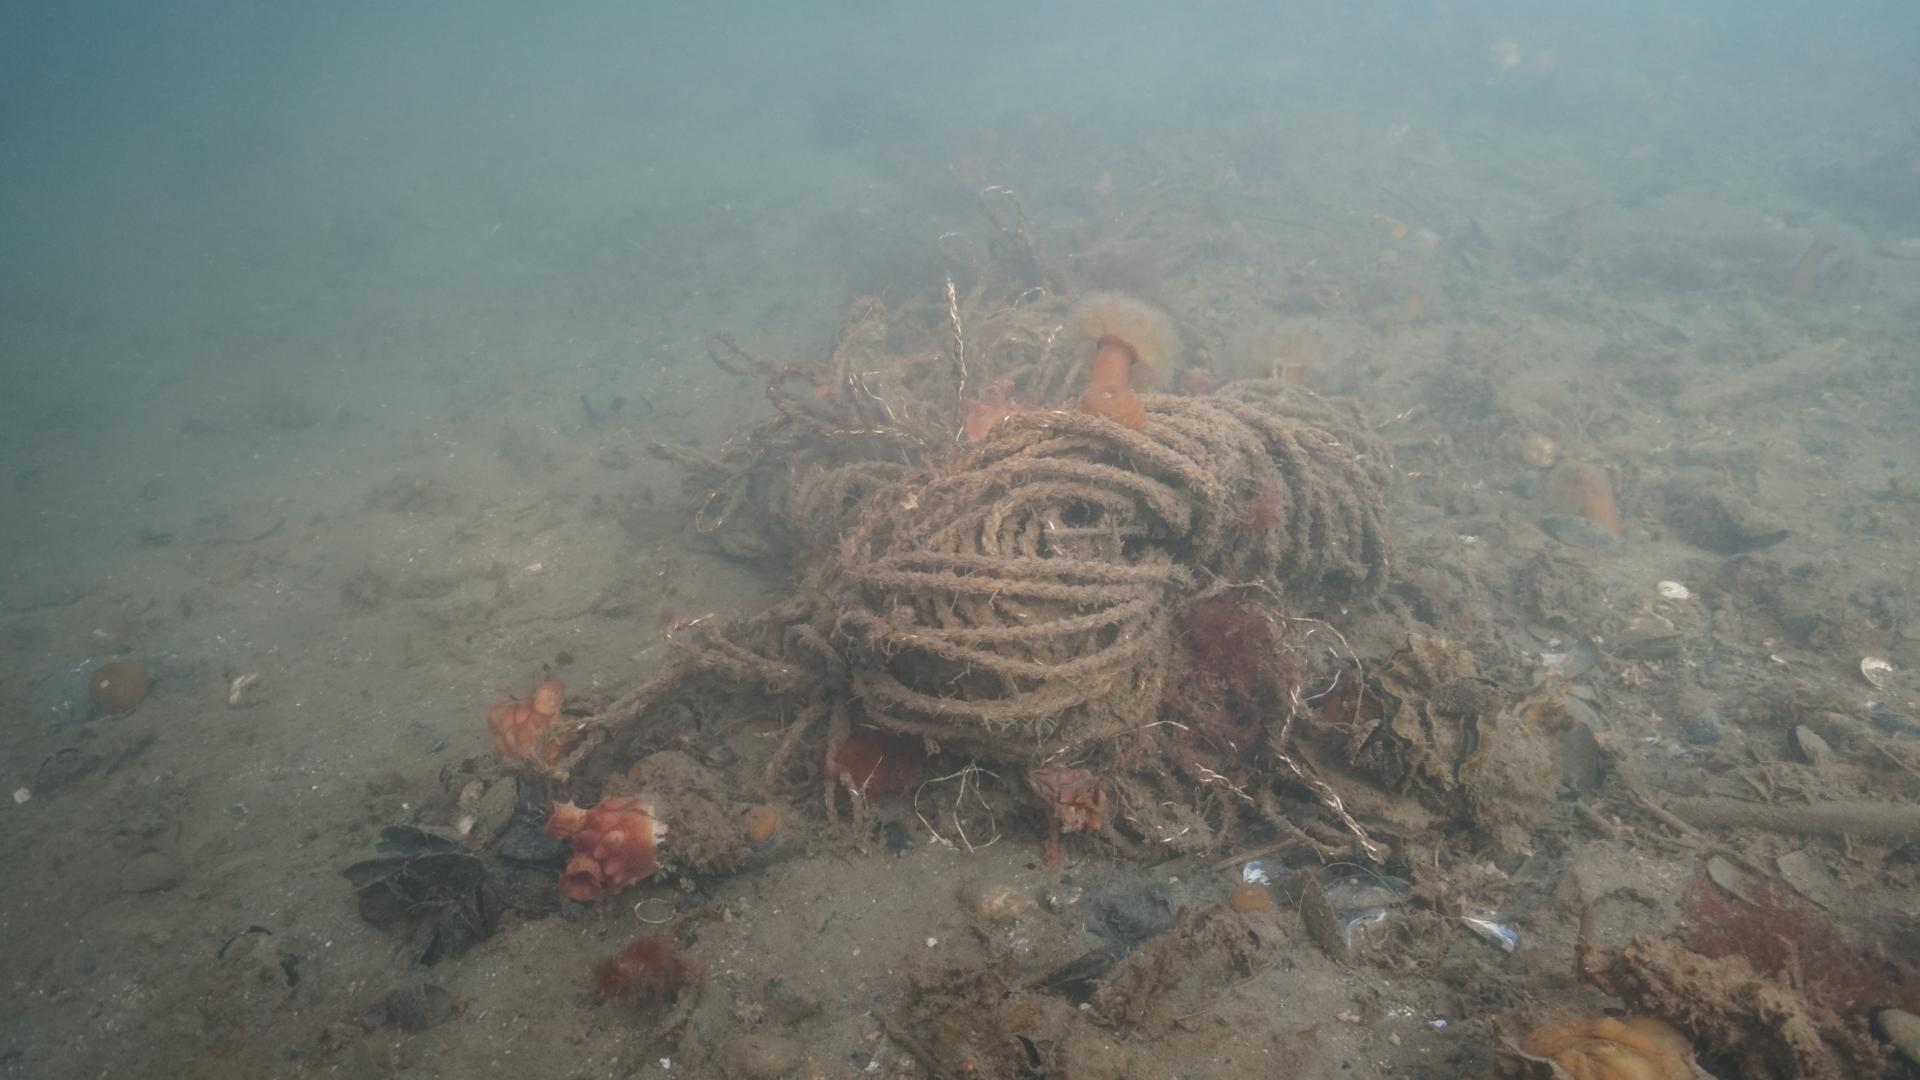bundle of ropes: (717, 276, 1393, 858)
